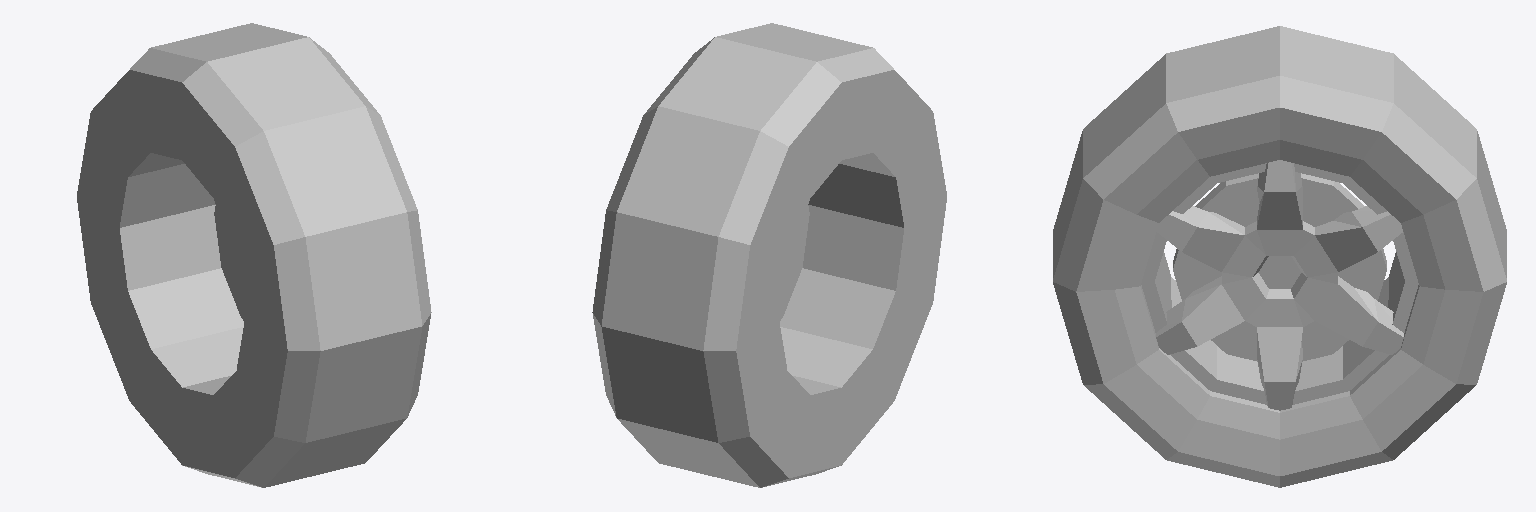
Rendered from wheel_bl.obj.
The picture shows the model from 3 angles: view 1: azimuth 30°, elevation 25°; view 2: azimuth 150°, elevation 25°; view 3: azimuth 270°, elevation 25°; orthographic projection.
Visible parts, largest first — view 1: back_left_SM_Veh_Car_Taxi_Wheel_rl_网格.003; view 2: back_left_SM_Veh_Car_Taxi_Wheel_rl_网格.003; view 3: back_left_SM_Veh_Car_Taxi_Wheel_rl_网格.003.
Boxes of the visible parts, x1=… form: back_left_SM_Veh_Car_Taxi_Wheel_rl_网格.003: x1=77, y1=23, x2=431, y2=487; back_left_SM_Veh_Car_Taxi_Wheel_rl_网格.003: x1=592, y1=23, x2=946, y2=487; back_left_SM_Veh_Car_Taxi_Wheel_rl_网格.003: x1=1053, y1=26, x2=1506, y2=487.
Size of the model in its own units: 0.2708 by 0.7231 by 0.7231.